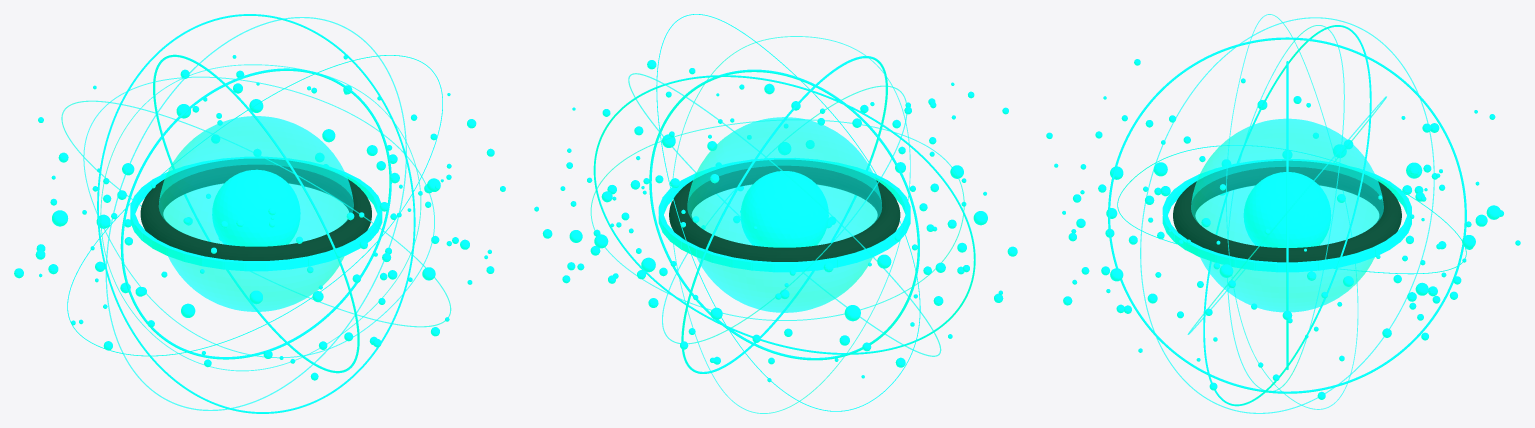
File: hero-3d.glb
The picture shows the model from 3 angles, left to right: view 1: azimuth 30°, elevation 25°; view 2: azimuth 150°, elevation 25°; view 3: azimuth 270°, elevation 25°; orthographic projection.
Parts seen in each view (by area): view 1: Transparent Wire Sphere, Main Dark Mechanical Ring, Glowing Energy Core, Smooth Diagonal Orbit Ring, Smooth Vertical Orbit Ring 1, Smooth Vertical Orbit Ring 2, Smooth Protective Orbit Ring 4, Energy Field Ring 1, Energy Field Ring 2, Energy Field Ring 3, Smooth Protective Orbit Ring 5; view 2: Transparent Wire Sphere, Main Dark Mechanical Ring, Glowing Energy Core, Smooth Vertical Orbit Ring 1, Smooth Diagonal Orbit Ring, Smooth Vertical Orbit Ring 2, Energy Field Ring 1, Energy Field Ring 2, Energy Field Ring 3, Smooth Protective Orbit Ring 4, Smooth Protective Orbit Ring 5; view 3: Transparent Wire Sphere, Main Dark Mechanical Ring, Glowing Energy Core, Smooth Vertical Orbit Ring 2, Smooth Diagonal Orbit Ring, Smooth Protective Orbit Ring 5, Energy Field Ring 1, Energy Field Ring 2, Smooth Vertical Orbit Ring 1, Energy Field Ring 3, Smooth Protective Orbit Ring 4.
Part boxes in pixels (box(x1,y1,x2,y2)): Transparent Wire Sphere: box(158, 116, 353, 311); Main Dark Mechanical Ring: box(140, 159, 371, 260); Glowing Energy Core: box(212, 169, 300, 246); Smooth Diagonal Orbit Ring: box(97, 14, 415, 413); Smooth Vertical Orbit Ring 1: box(120, 68, 391, 359); Smooth Vertical Orbit Ring 2: box(153, 54, 359, 373); Smooth Protective Orbit Ring 4: box(105, 17, 406, 410); Energy Field Ring 1: box(83, 76, 434, 358); Energy Field Ring 2: box(100, 64, 421, 371); Energy Field Ring 3: box(67, 55, 442, 356); Smooth Protective Orbit Ring 5: box(61, 100, 451, 327); Transparent Wire Sphere: box(687, 117, 881, 312); Main Dark Mechanical Ring: box(669, 160, 900, 261); Glowing Energy Core: box(740, 171, 828, 247); Smooth Vertical Orbit Ring 1: box(649, 69, 919, 360); Smooth Diagonal Orbit Ring: box(593, 75, 975, 354); Smooth Vertical Orbit Ring 2: box(681, 56, 887, 373); Energy Field Ring 1: box(590, 119, 964, 320); Energy Field Ring 2: box(671, 36, 910, 413); Energy Field Ring 3: box(656, 14, 920, 411); Smooth Protective Orbit Ring 4: box(628, 73, 941, 356); Smooth Protective Orbit Ring 5: box(662, 85, 907, 344); Transparent Wire Sphere: box(1191, 118, 1383, 312); Main Dark Mechanical Ring: box(1173, 161, 1401, 262); Glowing Energy Core: box(1243, 172, 1331, 247); Smooth Vertical Orbit Ring 2: box(1108, 37, 1466, 393); Smooth Diagonal Orbit Ring: box(1203, 25, 1371, 406); Smooth Protective Orbit Ring 5: box(1140, 17, 1434, 413); Energy Field Ring 1: box(1227, 25, 1344, 391); Energy Field Ring 2: box(1226, 14, 1358, 409); Smooth Vertical Orbit Ring 1: box(1286, 61, 1288, 369); Energy Field Ring 3: box(1117, 145, 1466, 274); Smooth Protective Orbit Ring 4: box(1187, 96, 1386, 334).
Bounding box in the file's own units: 7.84 × 6.1 × 7.58.
